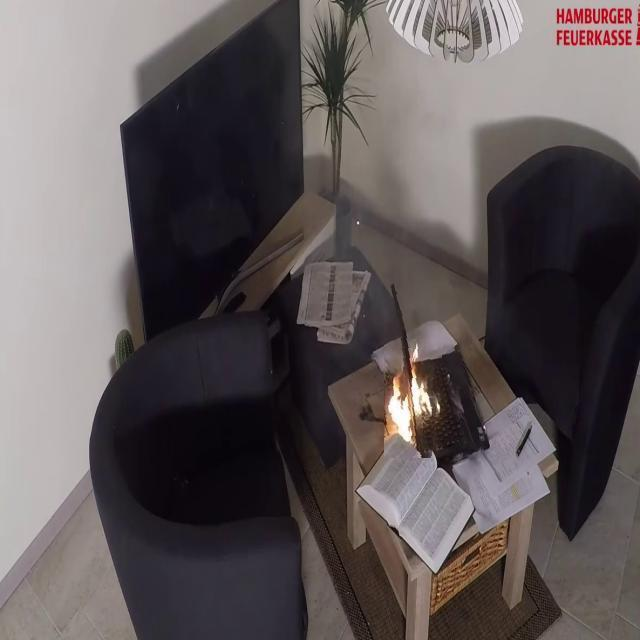smoke: (384, 342, 444, 446)
